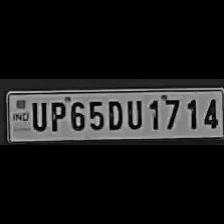1: (144, 97, 162, 131), (181, 96, 199, 130)
4: (198, 95, 220, 129)
5: (86, 97, 106, 131)
6: (66, 98, 86, 132)
7: (160, 96, 180, 130)
D: (105, 96, 125, 130)
P: (47, 98, 66, 132)
U: (28, 98, 48, 132), (125, 96, 145, 130)
